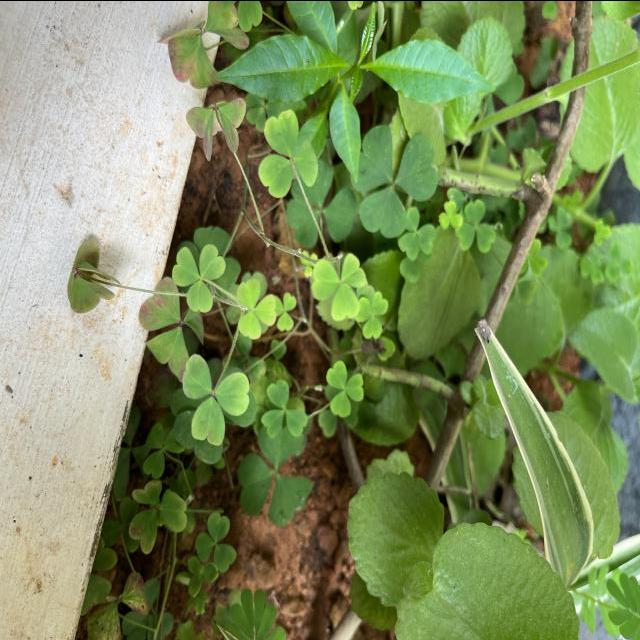Oxalis corniculata: (181, 352, 251, 446), (258, 108, 320, 198), (128, 478, 188, 554), (310, 251, 368, 322), (170, 243, 227, 313), (260, 378, 308, 438), (235, 277, 278, 340), (195, 510, 238, 572), (325, 358, 365, 418), (454, 198, 496, 252), (398, 206, 437, 261)
